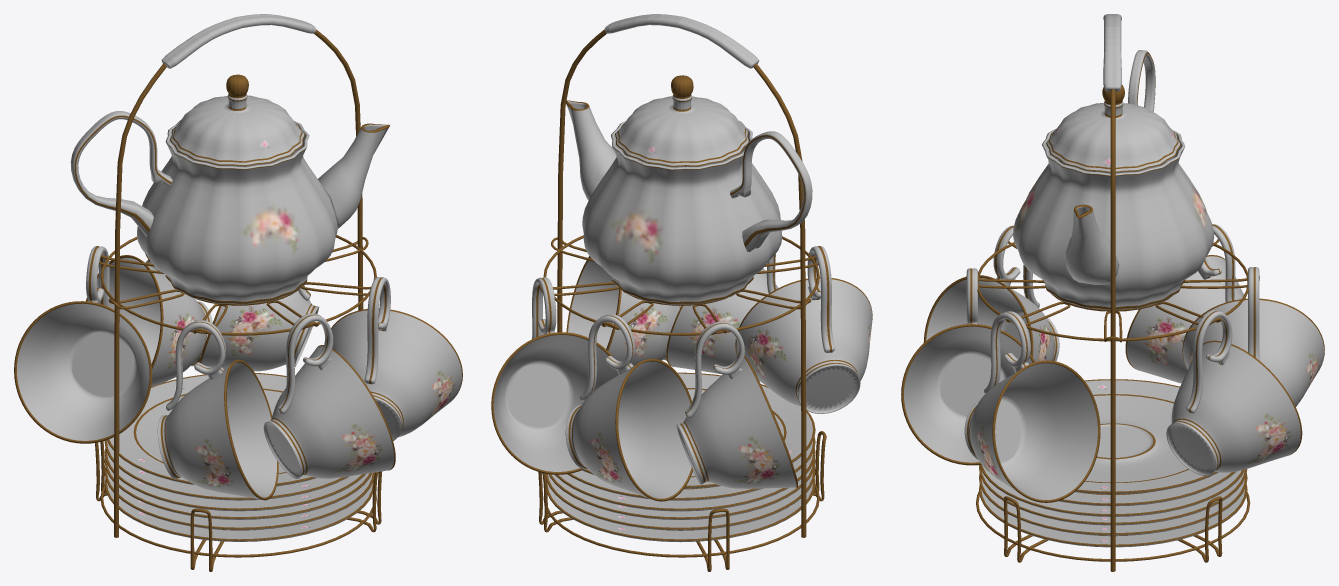
The model's file is teaset2.glb.
3 views of the same model, side by side, from view 1: azimuth 30°, elevation 25°; view 2: azimuth 150°, elevation 25°; view 3: azimuth 270°, elevation 25° (orthographic).
Visible parts, largest first — view 1: teapot, cup6, cup1, cup2, rack, cup3, teapotlid, cup5, cup4, plate1, plate6, plate5 (+3 smaller); view 2: teapot, cup5, cup1, cup4, rack, cup6, teapotlid, cup3, cup2, plate6, plate5, plate3 (+3 smaller); view 3: teapot, cup3, cup4, cup2, rack, plate1, cup5, teapotlid, cup6, cup1, plate6, plate5 (+3 smaller).
Boxes of the visible parts, x1,y1,x2,y2 form: teapot: (70, 111, 389, 304); cup6: (14, 246, 152, 443); cup1: (157, 320, 278, 500); cup2: (263, 313, 395, 478); rack: (95, 14, 382, 571); cup3: (331, 277, 462, 440); teapotlid: (170, 74, 305, 166); cup5: (86, 253, 212, 386); cup4: (199, 285, 319, 371); plate1: (107, 373, 316, 486); plate6: (104, 478, 373, 541); plate5: (104, 468, 374, 530); teapot: (566, 100, 812, 304); cup5: (565, 314, 692, 501); cup1: (735, 246, 872, 413); cup4: (491, 277, 618, 474); rack: (538, 14, 826, 571); cup6: (676, 321, 797, 488); teapotlid: (615, 75, 749, 167); cup3: (566, 256, 680, 365); cup2: (666, 253, 778, 373); plate6: (546, 479, 815, 542); plate5: (545, 467, 815, 530); plate3: (555, 448, 815, 511); teapot: (1013, 50, 1214, 310); cup3: (964, 311, 1100, 502); cup4: (1166, 310, 1302, 475); cup2: (901, 268, 1035, 465); rack: (966, 14, 1259, 571); plate1: (1075, 379, 1218, 494); cup5: (1182, 267, 1324, 406); teapotlid: (1046, 85, 1180, 173); cup6: (1125, 224, 1243, 383); cup1: (923, 225, 1059, 361); plate6: (979, 484, 1247, 547); plate5: (979, 473, 1247, 535).
Size of the model in its own units: 0.7436 by 1.05 by 0.822.
Materials: 2 (1 with a texture image).
